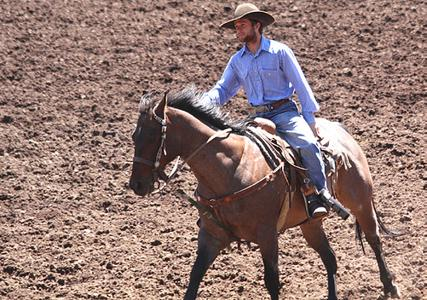person: (206, 4, 331, 216)
